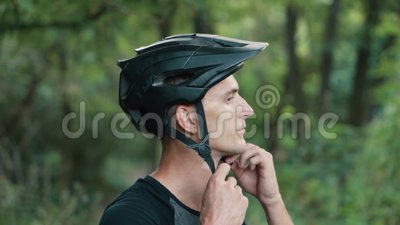helmet: (116, 33, 269, 154)
